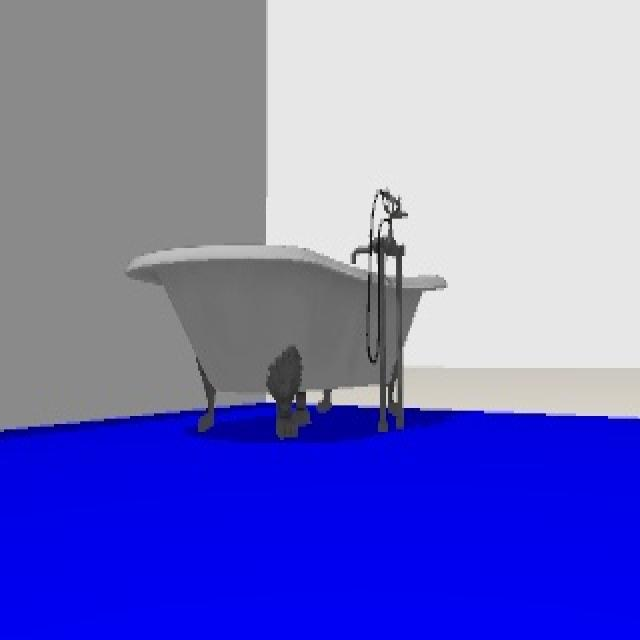bathtub: (136, 184, 446, 437)
